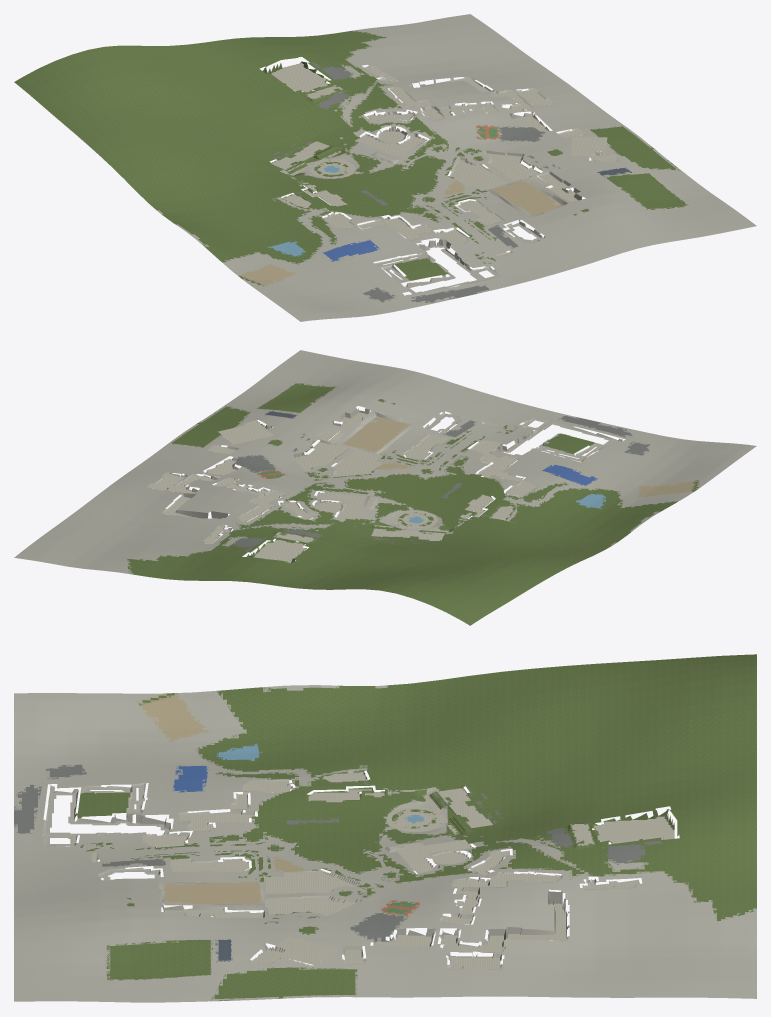
The picture shows the model from 3 angles, top to bottom: view 1: azimuth 30°, elevation 25°; view 2: azimuth 150°, elevation 25°; view 3: azimuth 270°, elevation 25°; orthographic projection. The views are drawn at different scales.
Visible parts, largest first — view 1: khu-base, khu-woodOver, khu-paving, khu-wood, khu-asphalt, khu-dirtField, khu-garden, khu-sportsTurf, khu-wood-overlay, khu-grass-overlay, khu-woodOver-overlay, khu-asphalt-overlay (+3 smaller); view 2: khu-base, khu-woodOver, khu-paving, khu-wood, khu-dirtField, khu-asphalt, khu-garden, khu-sportsTurf, khu-wood-overlay, khu-sportsTurfB-overlay, khu-woodOver-overlay, khu-grass-overlay (+3 smaller); view 3: khu-base, khu-woodOver, khu-paving, khu-wood, khu-dirtField, khu-asphalt, khu-sportsTurf, khu-garden, khu-wood-overlay, khu-sportsTurfB-overlay, khu-woodOver-overlay, khu-grass-overlay (+4 smaller).
Part boxes in pixels (x1,y1,x2,y2): khu-base: (157, 14, 756, 321); khu-woodOver: (17, 33, 676, 251); khu-paving: (271, 62, 617, 256); khu-wood: (95, 31, 654, 263); khu-asphalt: (274, 62, 544, 302); khu-dirtField: (240, 181, 561, 284); khu-garden: (14, 80, 588, 280); khu-sportsTurf: (606, 173, 685, 208); khu-wood-overlay: (159, 30, 677, 264); khu-grass-overlay: (313, 145, 496, 263); khu-woodOver-overlay: (209, 34, 680, 251); khu-asphalt-overlay: (271, 64, 560, 302); khu-base: (14, 350, 756, 574); khu-woodOver: (146, 406, 660, 624); khu-paving: (147, 412, 536, 562); khu-wood: (127, 422, 676, 576); khu-dirtField: (343, 417, 696, 497); khu-asphalt: (232, 416, 649, 551); khu-garden: (268, 399, 594, 625); khu-sportsTurf: (257, 385, 334, 412); khu-wood-overlay: (127, 408, 677, 574); khu-sportsTurfB-overlay: (260, 383, 699, 491); khu-woodOver-overlay: (146, 405, 666, 575); khu-grass-overlay: (305, 425, 517, 525); khu-base: (14, 685, 756, 1002); khu-woodOver: (214, 655, 756, 998); khu-paving: (93, 771, 674, 969); khu-wood: (198, 667, 756, 998); khu-dirtField: (142, 695, 303, 905); khu-asphalt: (14, 765, 660, 941); khu-sportsTurf: (110, 940, 210, 979); khu-garden: (76, 654, 756, 933); khu-wood-overlay: (196, 687, 753, 1000); khu-sportsTurfB-overlay: (106, 693, 205, 979); khu-woodOver-overlay: (210, 688, 755, 1001); khu-grass-overlay: (80, 811, 440, 897).
Bounding box in the file's own units: 680 × 85.67 × 740.
32 materials, 21 textured.
